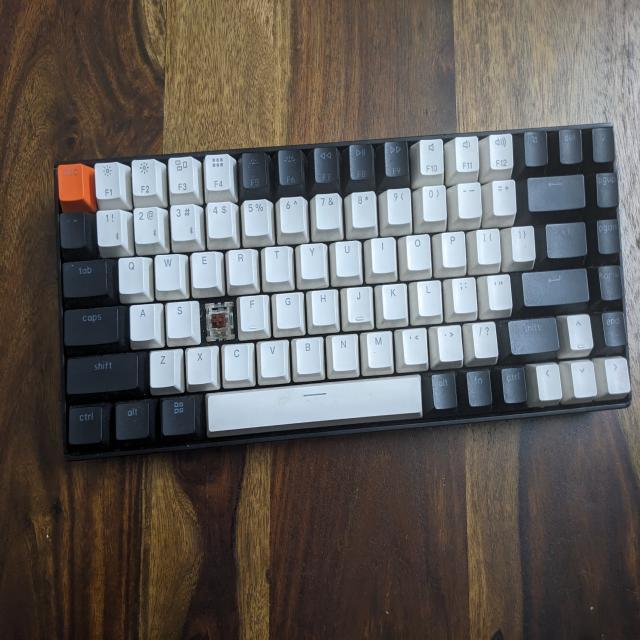key-switch: (206, 300, 237, 343)
